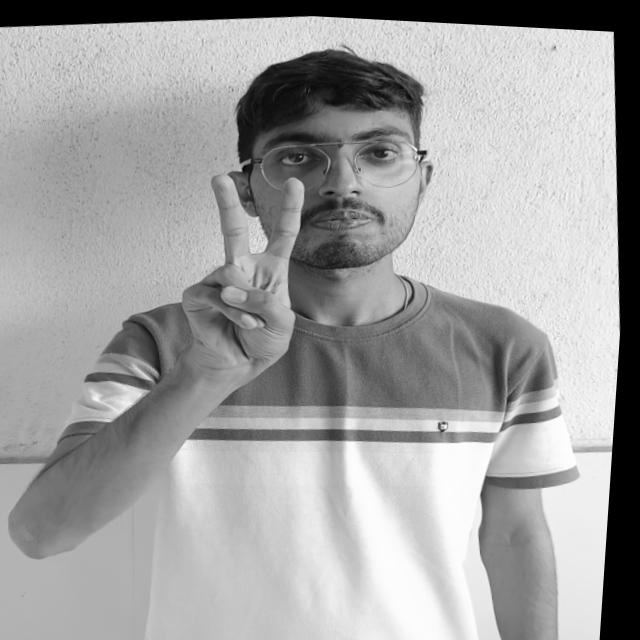Victory: (132, 146, 389, 400)
